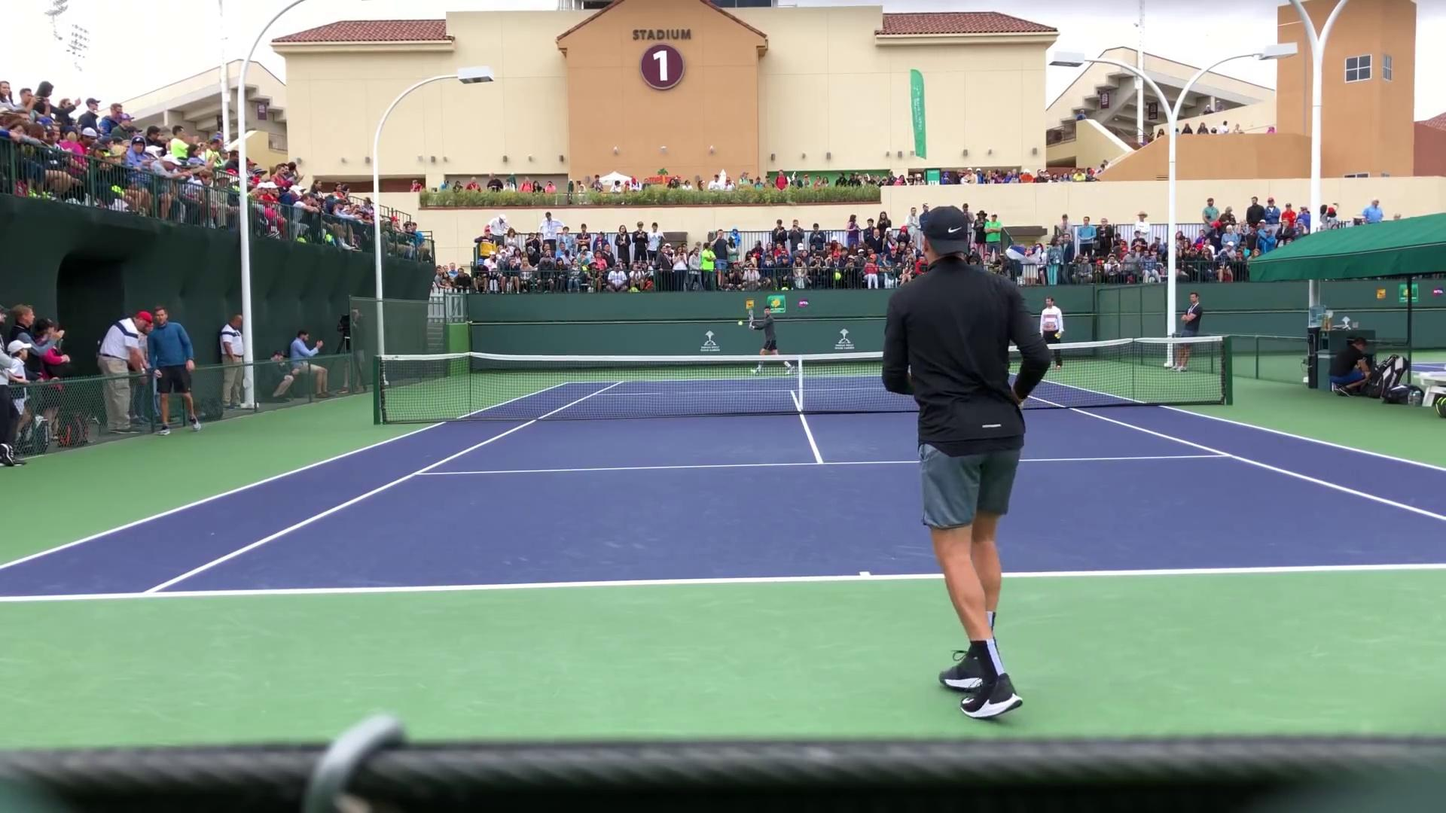ball: (735, 320, 746, 327)
